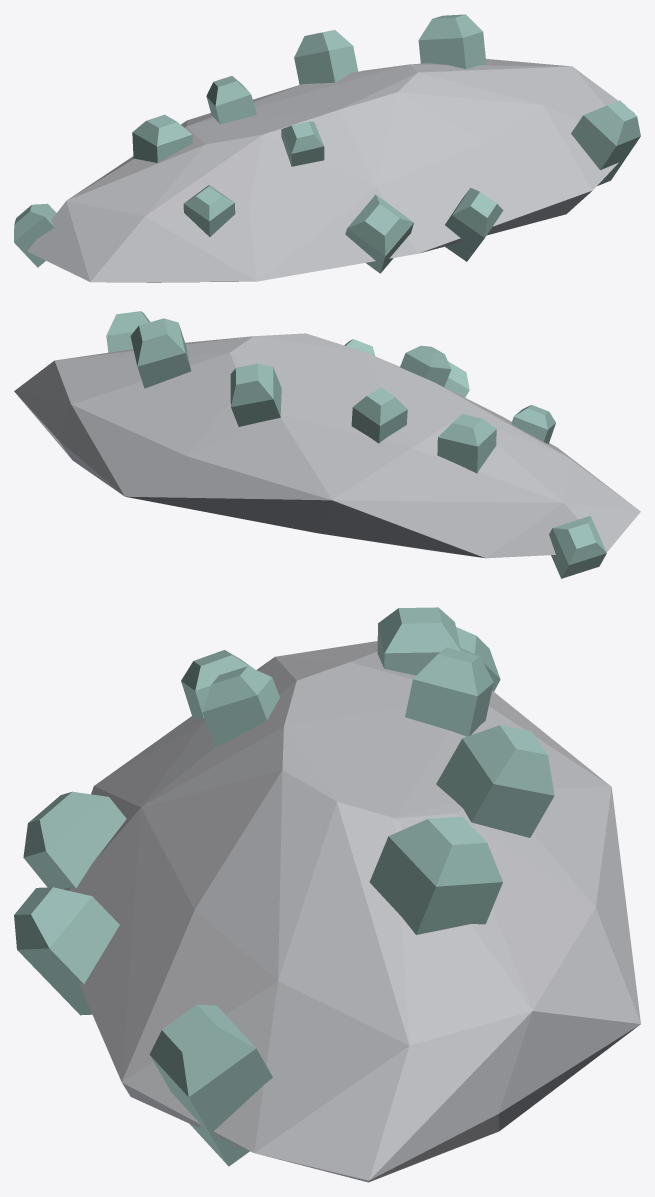
Rendered from SM_MR_Crystal_Large_05.fbx.
The picture shows the model from 3 angles, top to bottom: view 1: azimuth 30°, elevation 25°; view 2: azimuth 150°, elevation 25°; view 3: azimuth 270°, elevation 25°; orthographic projection. The views are drawn at different scales.
Parts seen in each view (by area): view 1: SM_MR_Crystal_Large_05; view 2: SM_MR_Crystal_Large_05; view 3: SM_MR_Crystal_Large_05.
Boxes of the visible parts, bbox=[...] form: SM_MR_Crystal_Large_05: bbox=[14, 14, 640, 282]; SM_MR_Crystal_Large_05: bbox=[14, 311, 640, 578]; SM_MR_Crystal_Large_05: bbox=[14, 607, 640, 1182].
Size of the model in its own units: 2.65 by 1.34 by 0.6407.
